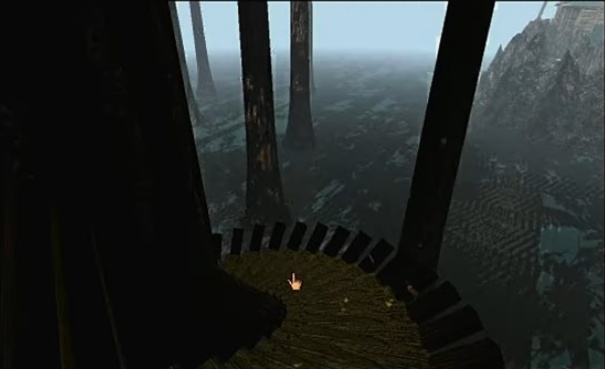Pointer: (284, 268, 306, 293)
